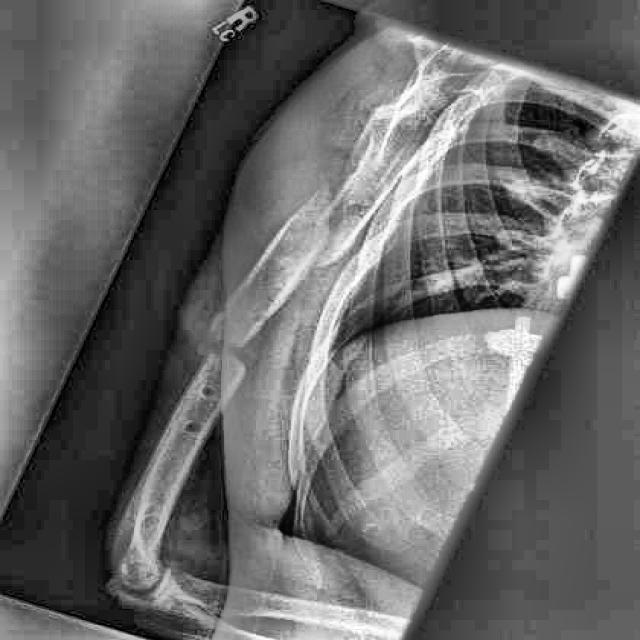humerus: (131, 287, 299, 462), (245, 148, 391, 316)
